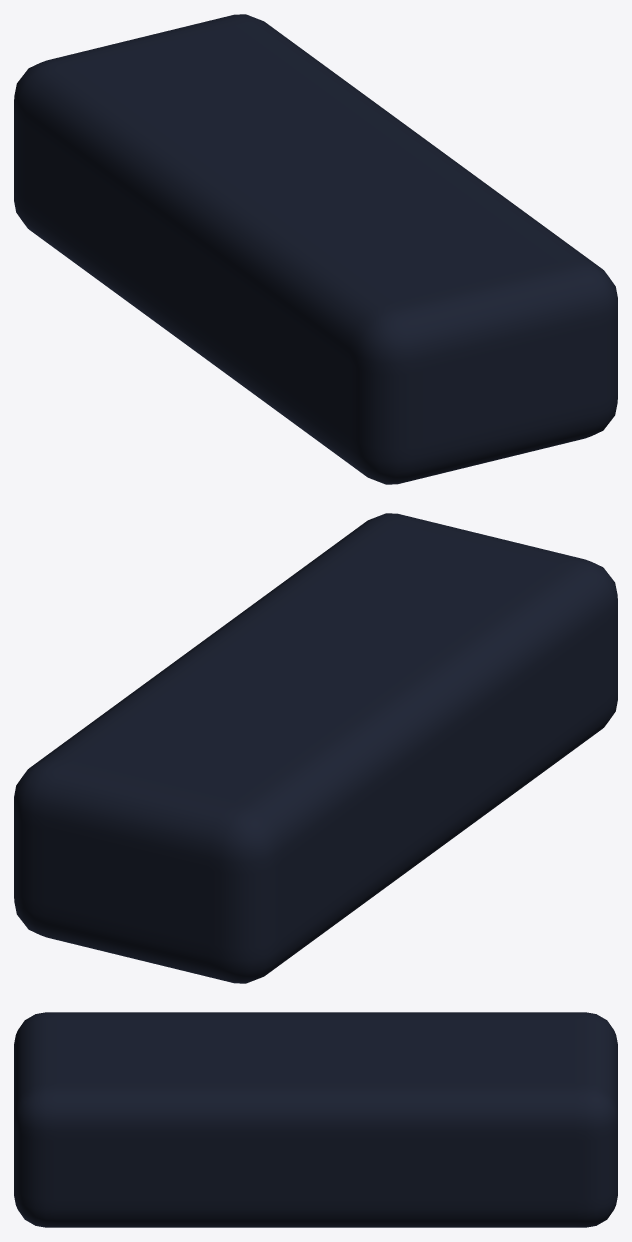
The model's file is 088_right_usb_c_female_receptacle_opening.glb.
3 renders of one model, top to bottom at view 1: azimuth 30°, elevation 25°; view 2: azimuth 150°, elevation 25°; view 3: azimuth 270°, elevation 25°, orthographic. The views are drawn at different scales.
Parts seen in each view (by area): view 1: 088 | Right USB-C Female Receptacle Opening; view 2: 088 | Right USB-C Female Receptacle Opening; view 3: 088 | Right USB-C Female Receptacle Opening.
Boxes of the visible parts, left/top/right/bottom form: 088 | Right USB-C Female Receptacle Opening: left=14, top=14, right=617, bottom=484; 088 | Right USB-C Female Receptacle Opening: left=14, top=513, right=617, bottom=983; 088 | Right USB-C Female Receptacle Opening: left=14, top=1012, right=617, bottom=1227.
Size of the model in its own units: 0.0022 by 0.0014 by 0.0056.
